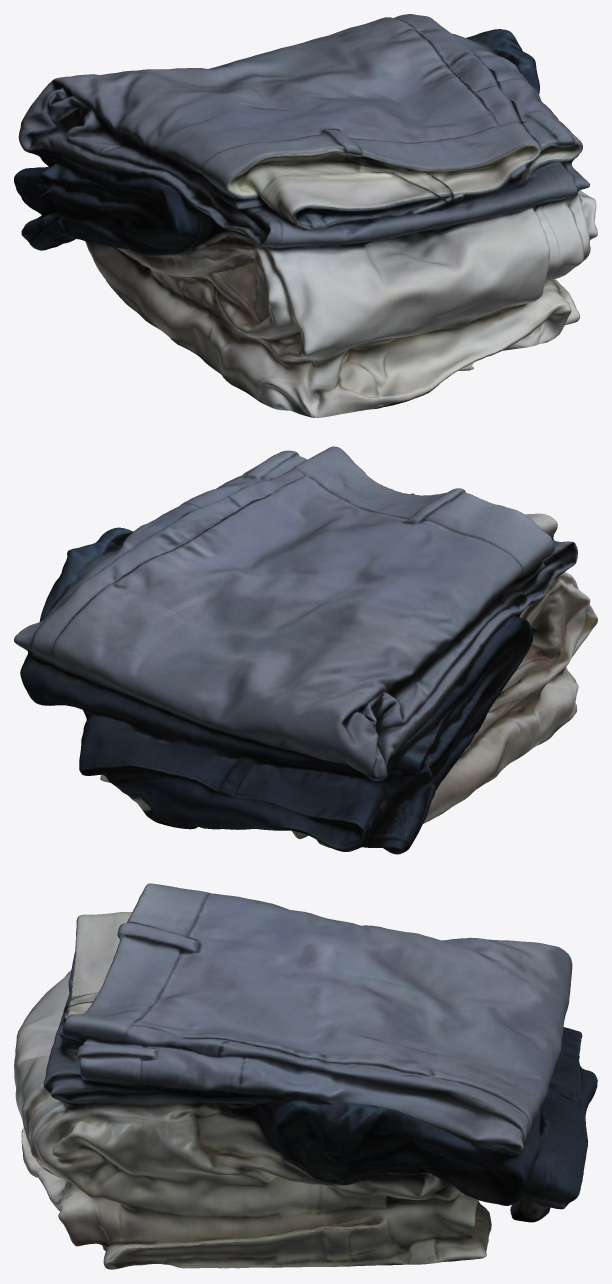
File: cloth_stacks.fbx
The picture shows the model from 3 angles, top to bottom: view 1: azimuth 30°, elevation 25°; view 2: azimuth 150°, elevation 25°; view 3: azimuth 270°, elevation 25°; orthographic projection. The views are drawn at different scales.
Parts seen in each view (by area): view 1: Stack of blue pants; view 2: Stack of blue pants; view 3: Stack of blue pants.
Part boxes in pixels (x1,y1,x2,y2): Stack of blue pants: (14, 14, 597, 417); Stack of blue pants: (14, 446, 597, 854); Stack of blue pants: (14, 883, 597, 1269).
Size of the model in its own units: 41.8 by 21.06 by 47.6.
